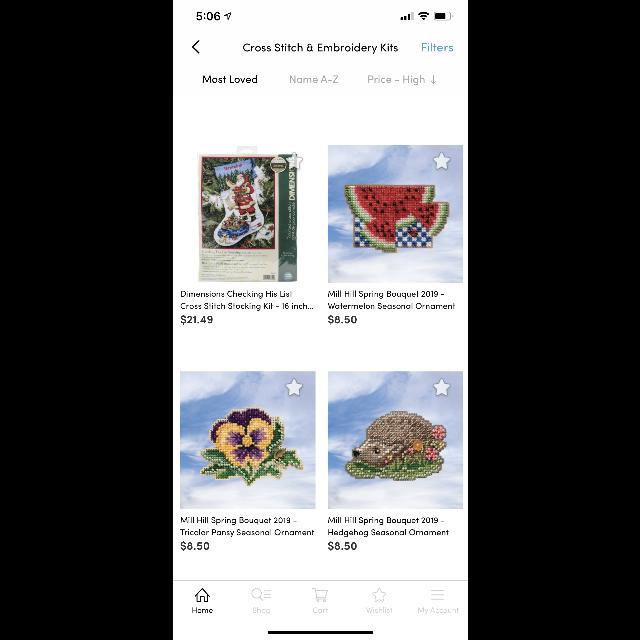icon: (432, 378, 450, 396), (284, 378, 302, 396), (432, 152, 450, 170), (286, 152, 302, 170), (251, 588, 271, 600), (311, 588, 327, 602), (194, 588, 210, 602), (372, 588, 386, 602), (431, 590, 444, 600), (192, 40, 198, 54), (431, 76, 435, 84)
image: (328, 372, 462, 508), (180, 372, 314, 508), (328, 146, 462, 282), (196, 146, 298, 282)
text: (179, 517, 313, 537), (328, 517, 448, 537), (180, 291, 312, 309), (328, 291, 454, 309), (242, 44, 398, 54), (368, 75, 424, 85), (202, 75, 256, 83), (180, 315, 212, 325), (422, 42, 452, 52), (290, 76, 338, 82), (328, 541, 356, 551), (180, 541, 208, 551), (328, 315, 356, 325), (418, 608, 458, 614), (366, 607, 392, 613), (252, 608, 270, 614), (192, 608, 212, 612), (312, 608, 328, 612)
uppertaskbar: (196, 12, 452, 21)
